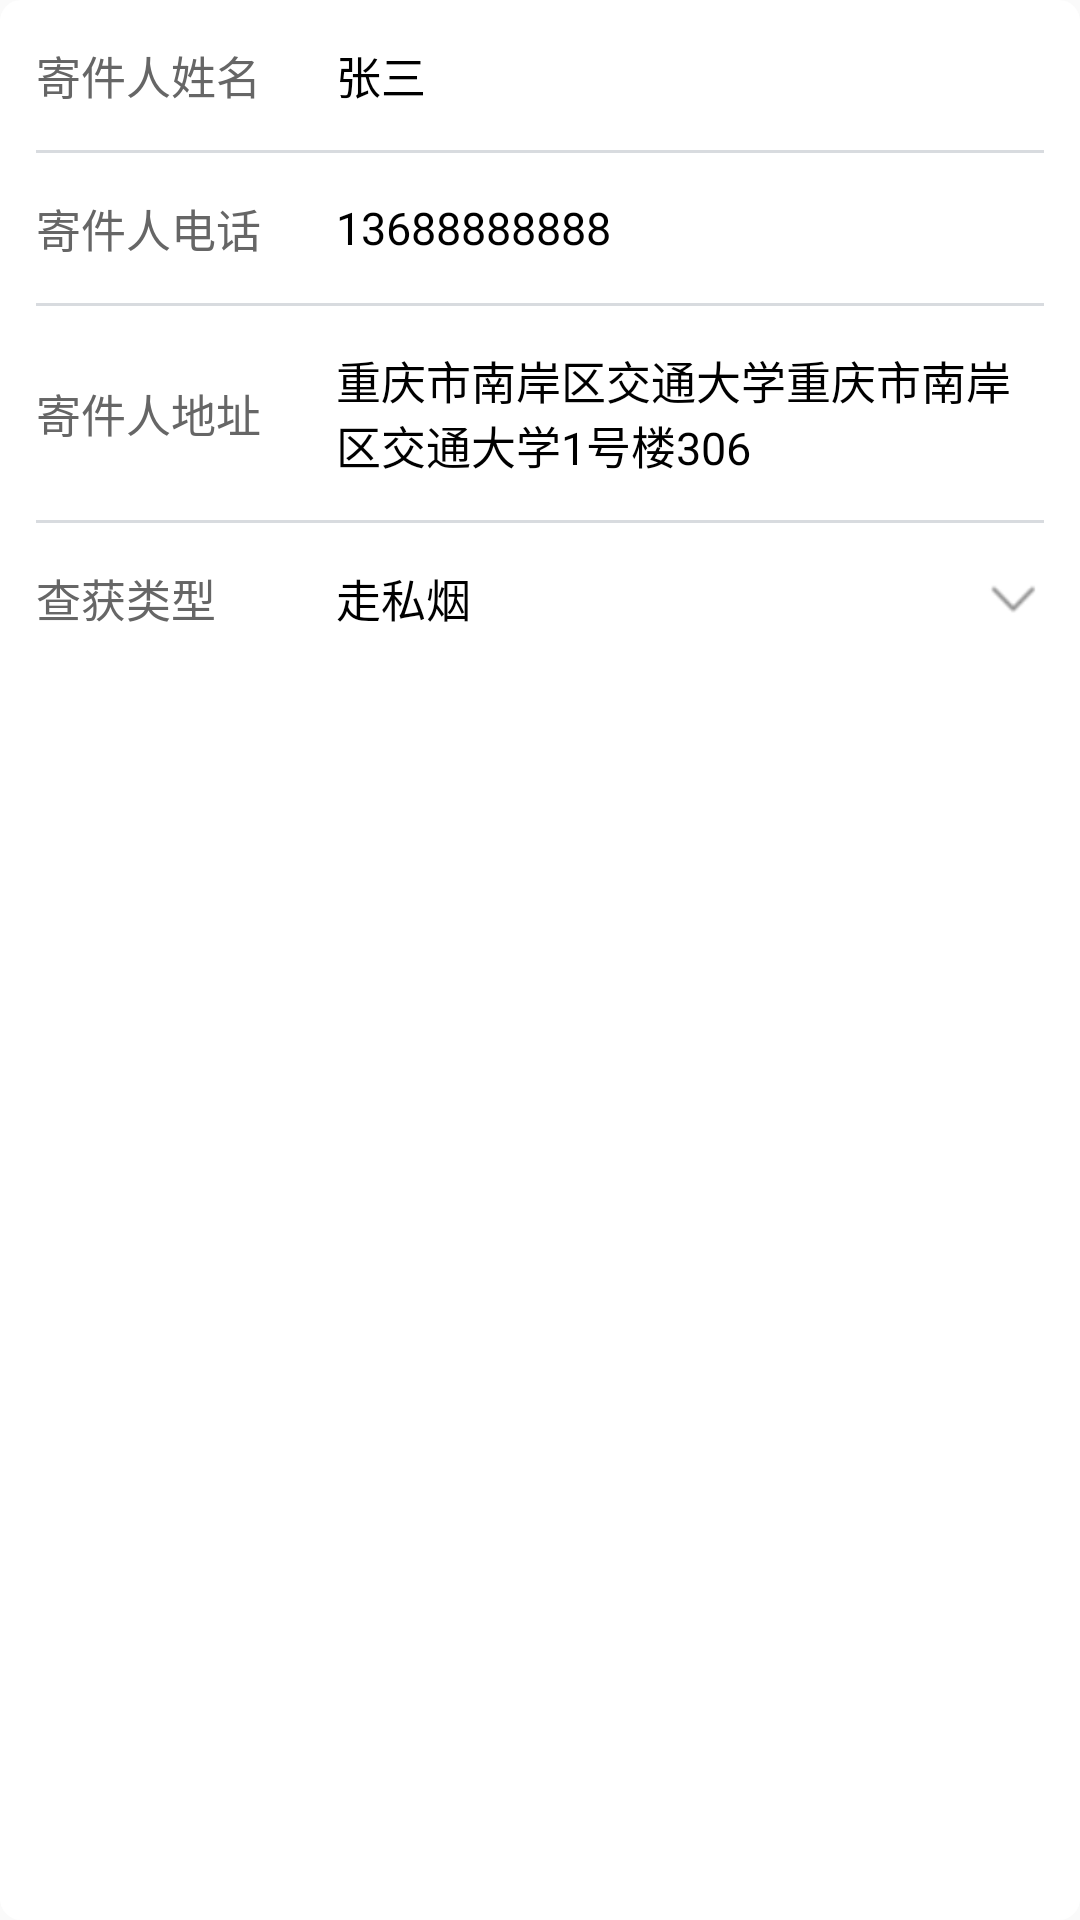

Where icons sit on this 1080 × 1920 app screen, as (x1, y1, x2, y2):
arrow down: (991, 587, 1035, 612)
